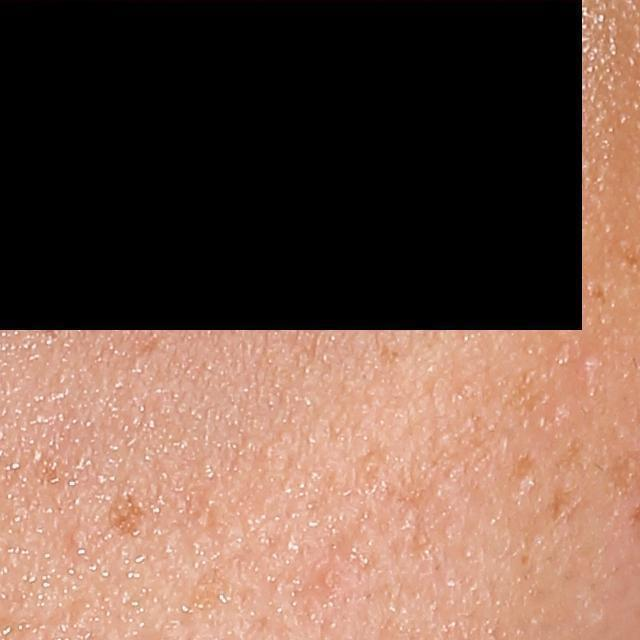comedo: (578, 353, 597, 376)
melasma: (168, 529, 304, 632), (449, 368, 549, 448), (104, 489, 154, 547)
